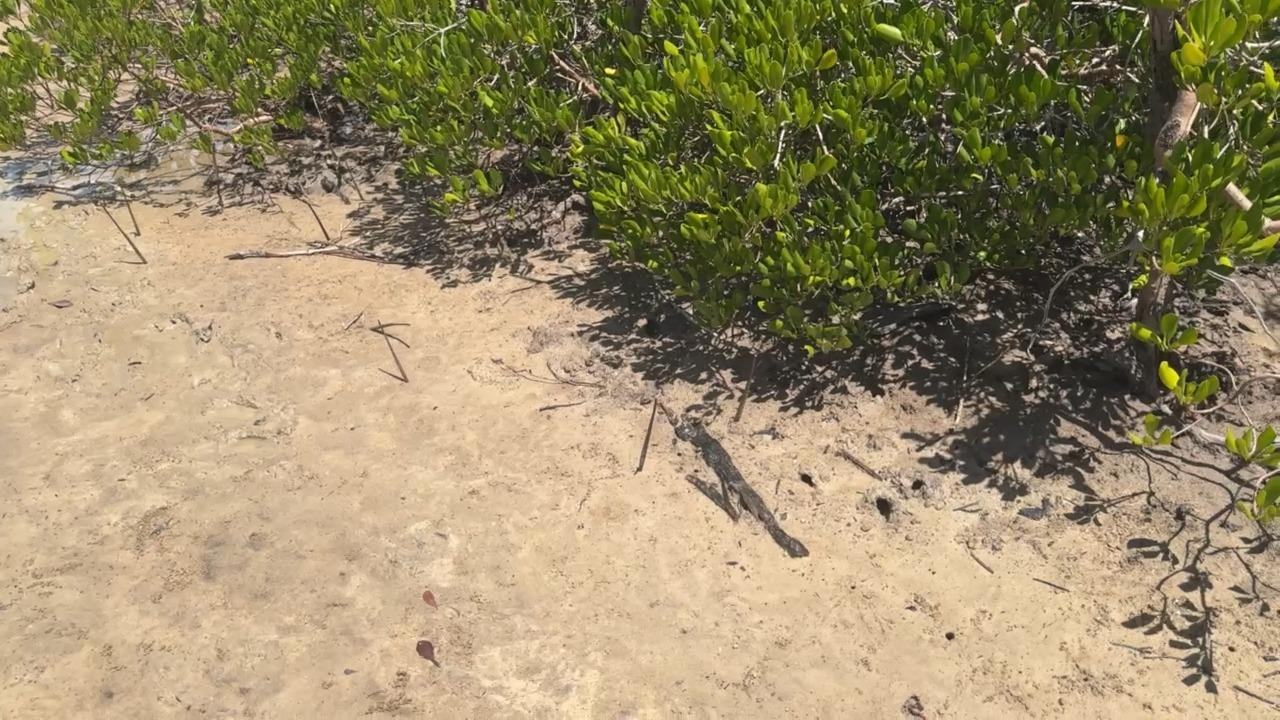Tree: (98, 199, 148, 265), (376, 319, 408, 383), (734, 352, 757, 423), (637, 399, 657, 471), (302, 196, 331, 242), (119, 182, 142, 236), (345, 161, 364, 201)
